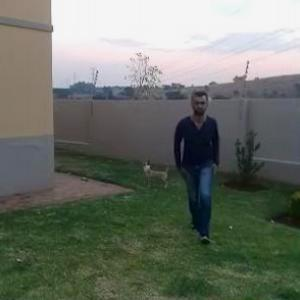follow: (170, 84, 220, 235)
